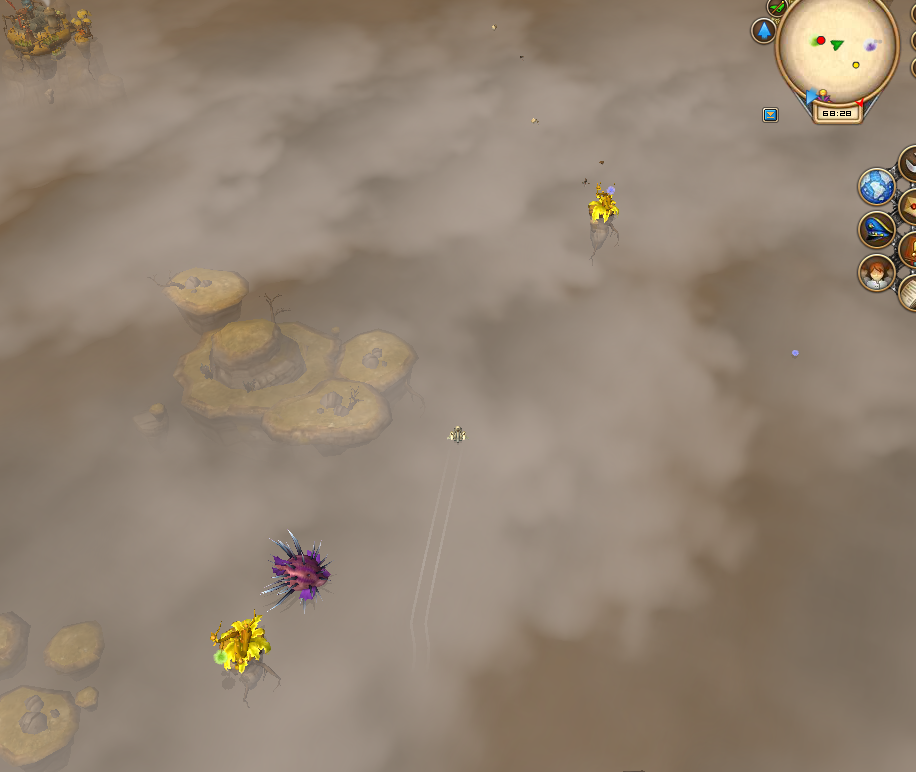dandelion-full: (210, 608, 278, 691), (584, 176, 622, 258)
fluff: (787, 345, 803, 362)
